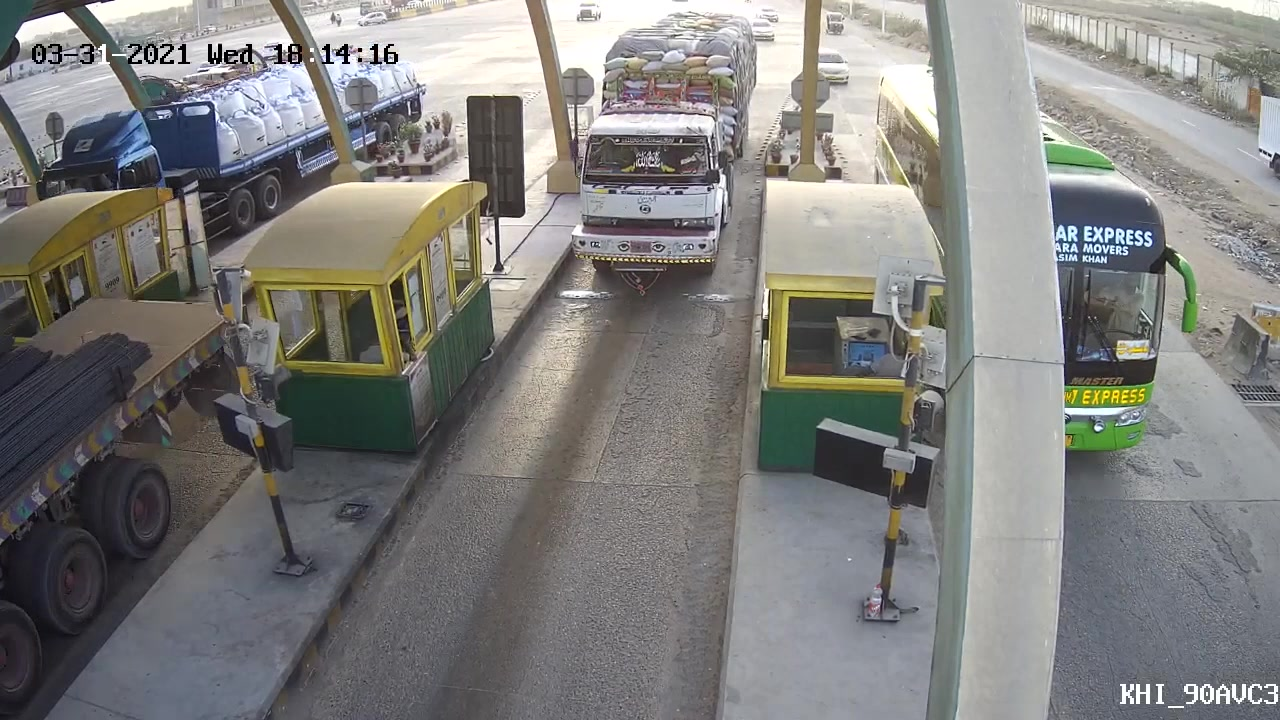F6: (561, 87, 743, 300)
